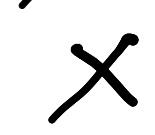mult: (48, 33, 139, 125)
